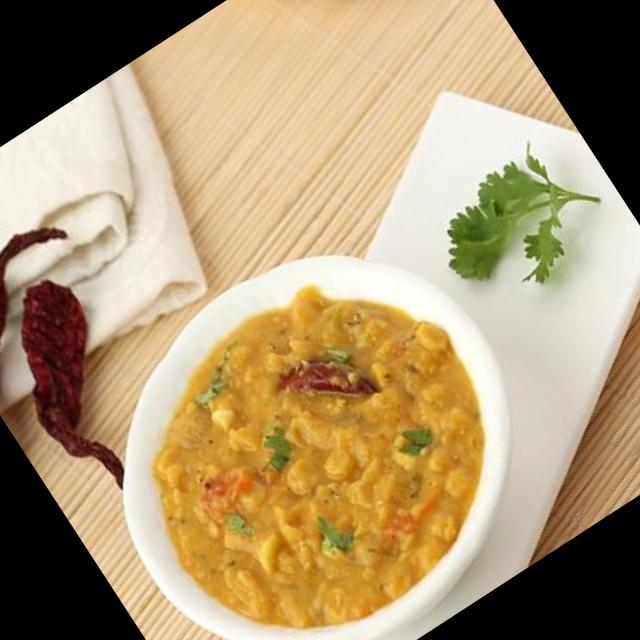dal: (91, 226, 552, 640)
